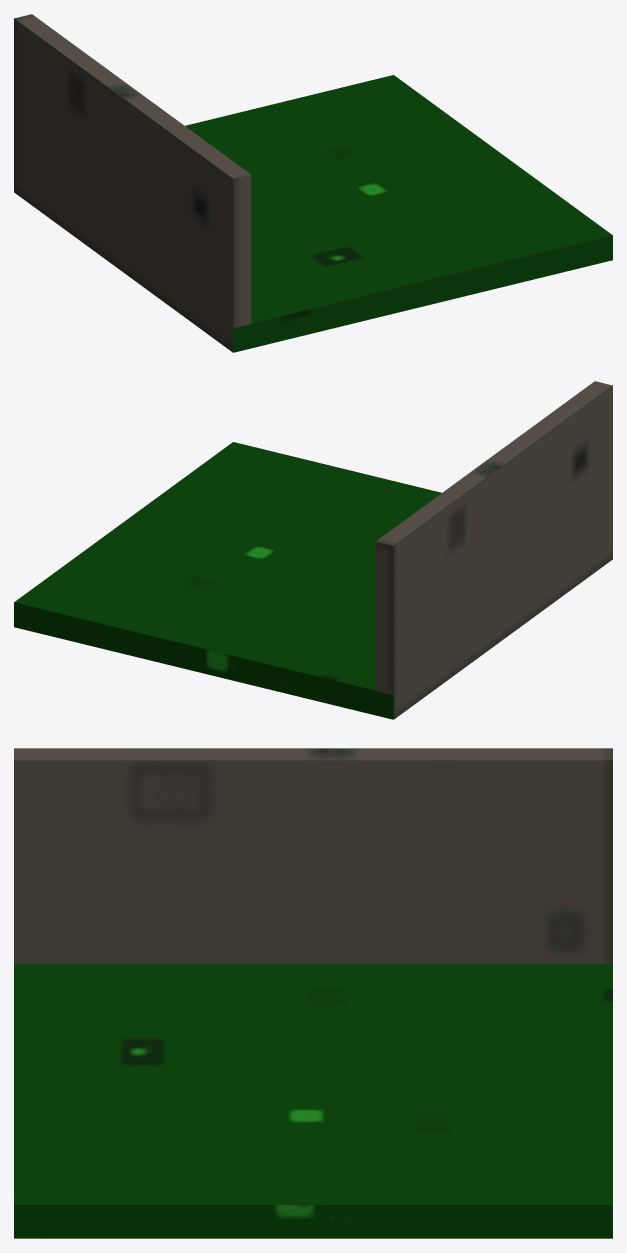
File: yard_8x8_with_wall_00.glb
3 renders of one model, top to bottom at view 1: azimuth 30°, elevation 25°; view 2: azimuth 150°, elevation 25°; view 3: azimuth 270°, elevation 25°, orthographic. The views are drawn at different scales.
Parts seen in each view (by area): view 1: grass_straight_wall; view 2: grass_straight_wall; view 3: grass_straight_wall.
Boxes of the visible parts, bbox=[...] form: grass_straight_wall: bbox=[14, 14, 612, 352]; grass_straight_wall: bbox=[14, 381, 612, 719]; grass_straight_wall: bbox=[14, 748, 612, 1238].
Bounding box in the file's own units: 8 × 3.5 × 8.
1 material, 1 textured.
